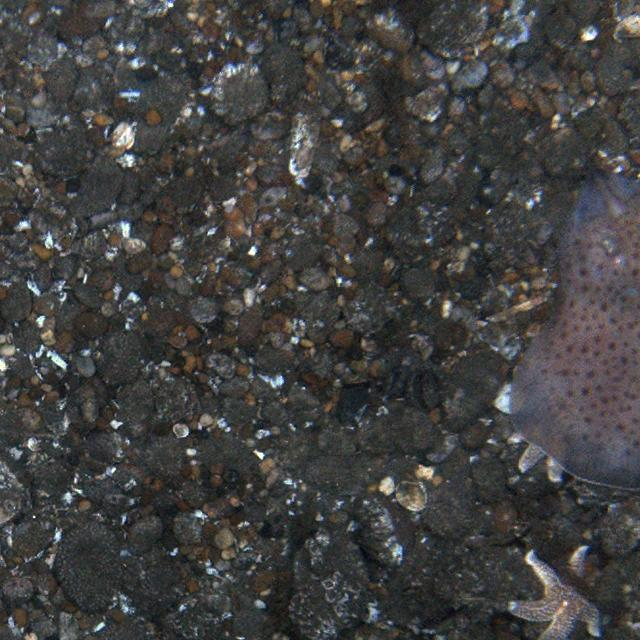skate: (498, 162, 640, 493)
